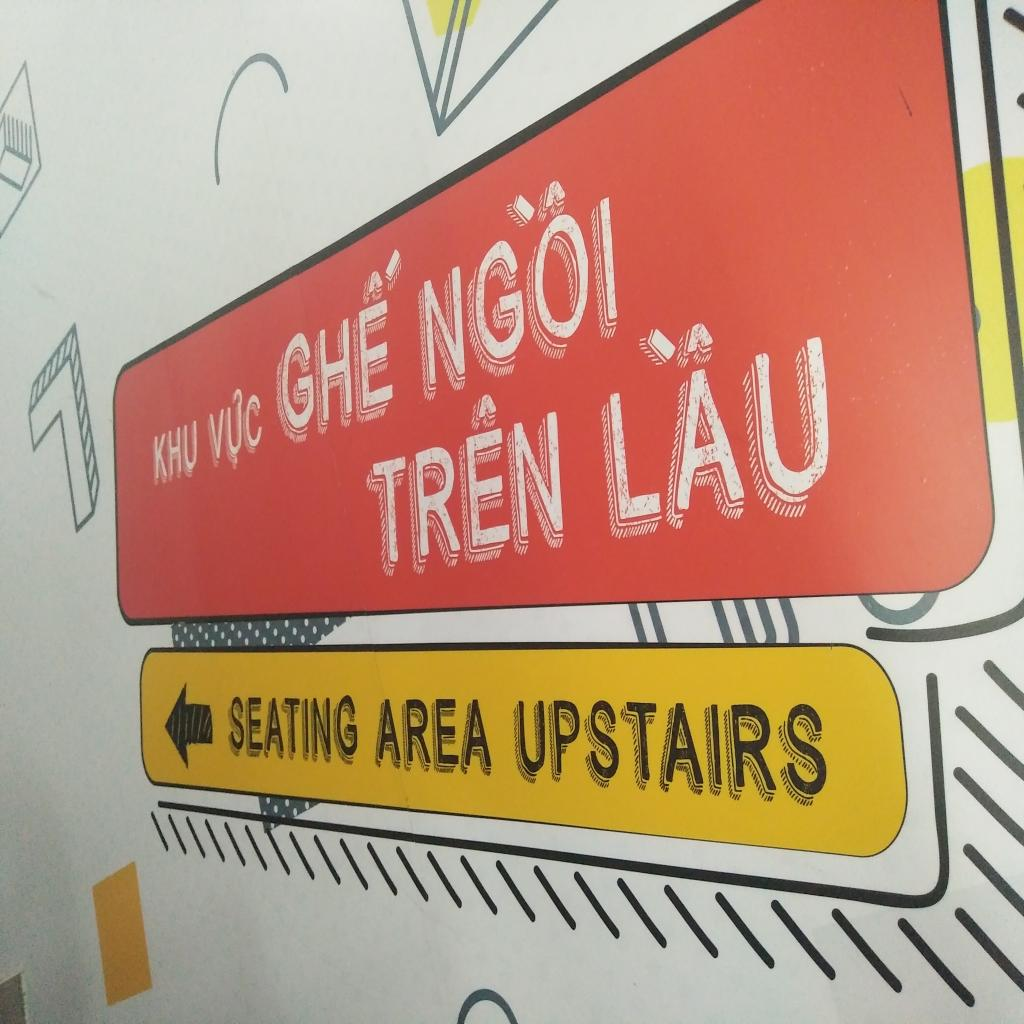text: (601, 289, 837, 534), (419, 120, 619, 399), (364, 373, 565, 578), (278, 244, 402, 440), (375, 698, 494, 772), (228, 695, 358, 759), (206, 381, 264, 464), (151, 419, 198, 480)
